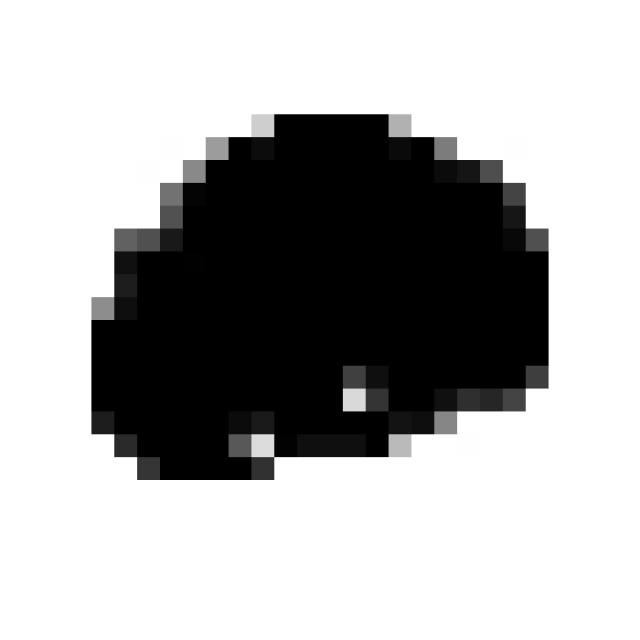0 -zero-: (68, 100, 561, 494)
